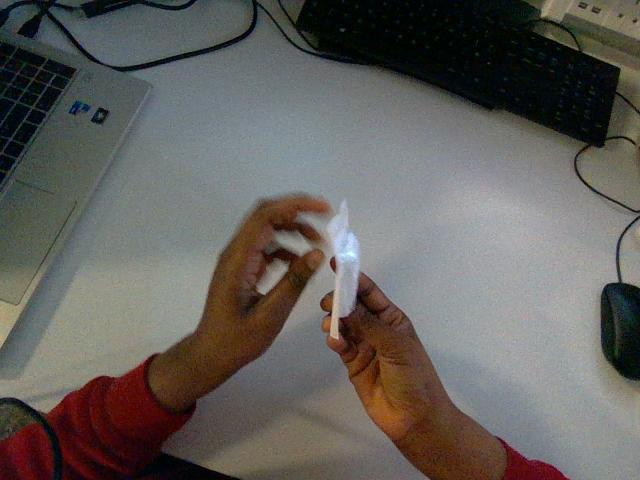gauze: (327, 200, 360, 339)
